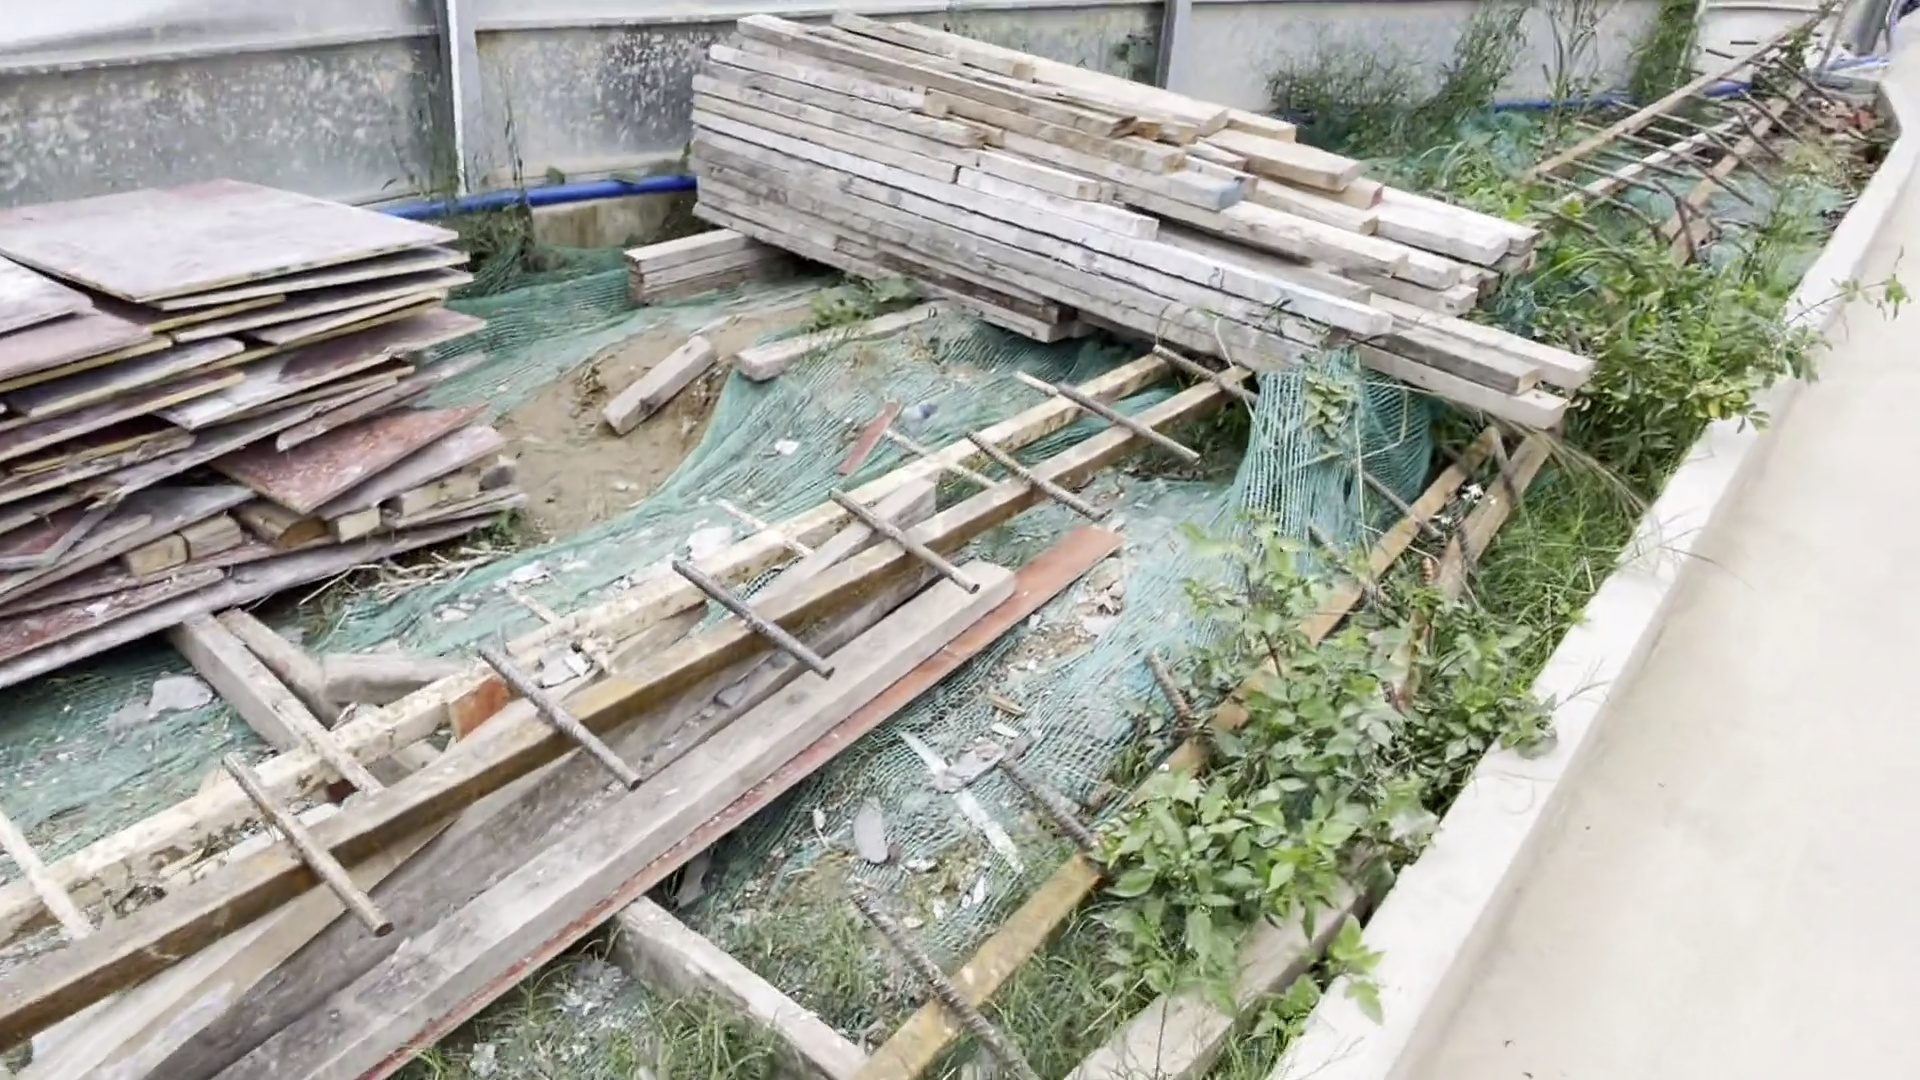board: (1, 164, 535, 624)
wood: (667, 11, 1602, 451)
